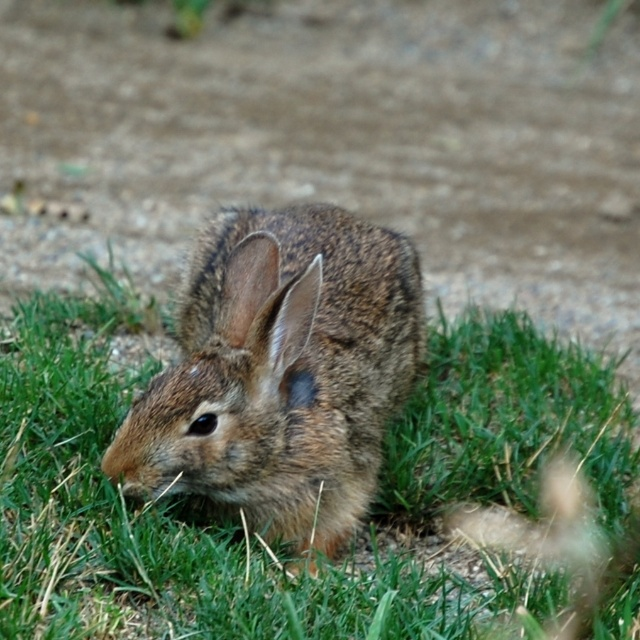Rabbit: (101, 200, 433, 568)
